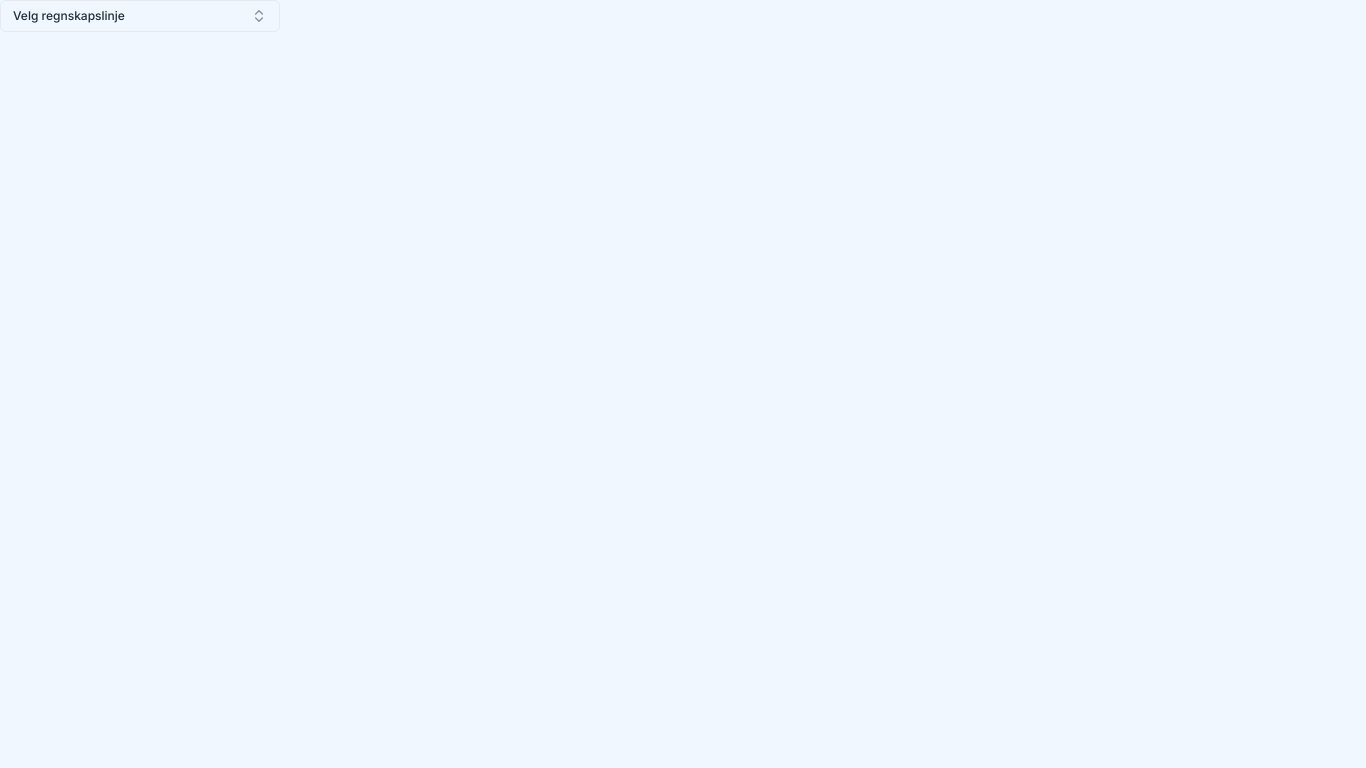
Test: MappingCombobox › opens popover and exposes ARIA correctly
The image size is (1366, 768).
Step 1. Click the button → click(69, 16), box [0,0,280,32]
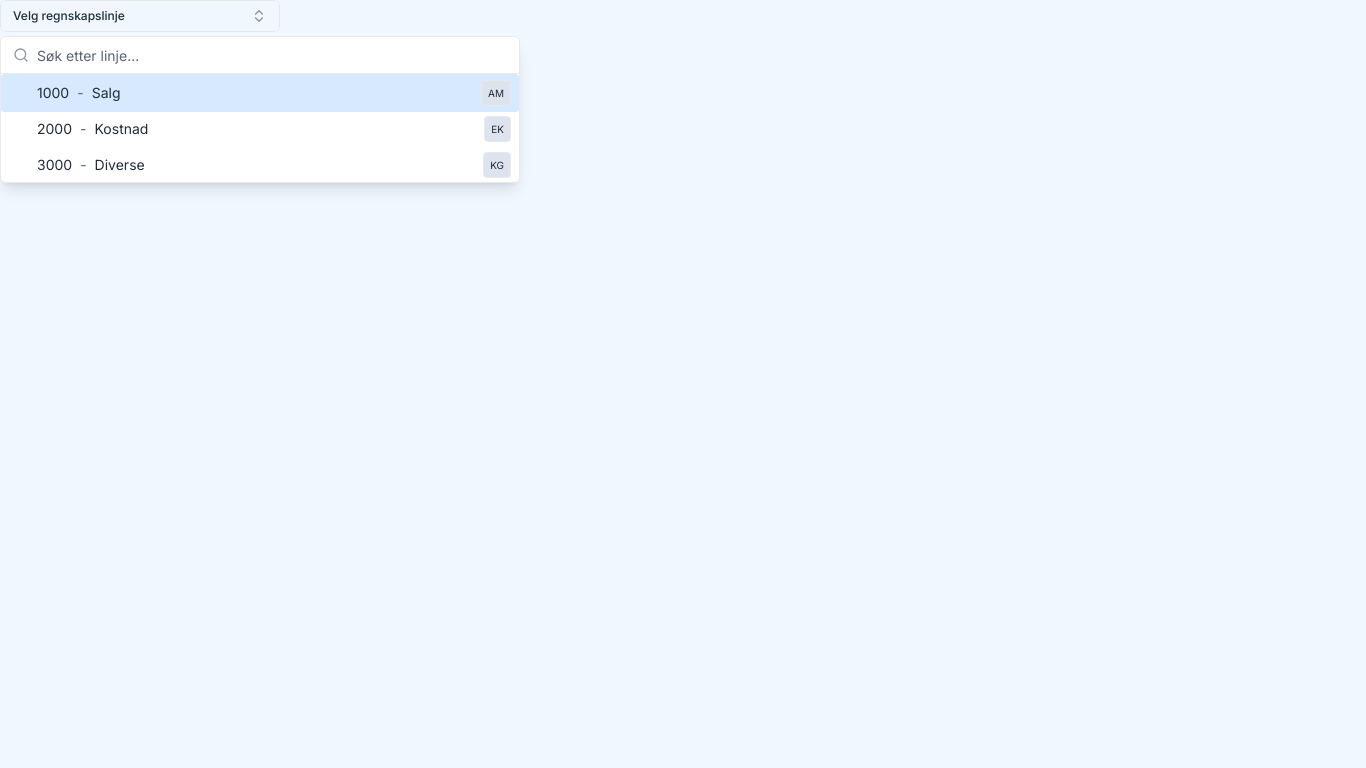
Result: the dropdown is shown at [37,37,507,73]
